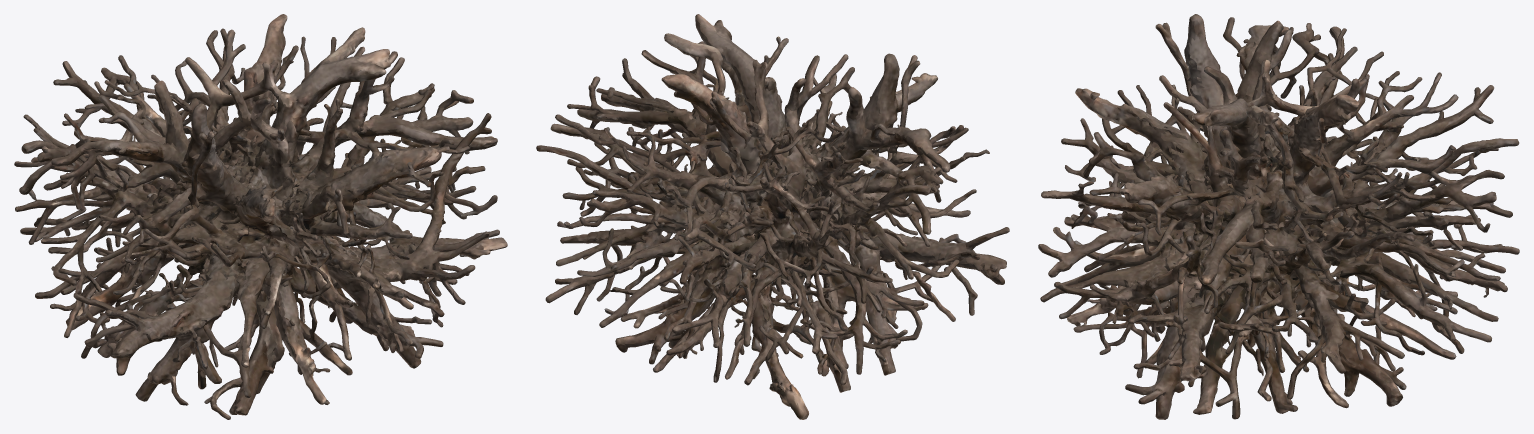
File: exposed-roots-v11.glb
The picture shows the model from 3 angles, left to right: view 1: azimuth 30°, elevation 25°; view 2: azimuth 150°, elevation 25°; view 3: azimuth 270°, elevation 25°; orthographic projection. The views are drawn at different scales.
Visible parts, largest first — view 1: geometry_0; view 2: geometry_0; view 3: geometry_0.
Part boxes in pixels (left/top/right/bottom): geometry_0: left=14, top=14, right=507, bottom=419; geometry_0: left=536, top=14, right=1009, bottom=419; geometry_0: left=1038, top=14, right=1519, bottom=419.
Bounding box in the file's own units: 0.85 × 0.6167 × 0.8397.
Materials: 1 (1 with a texture image).
